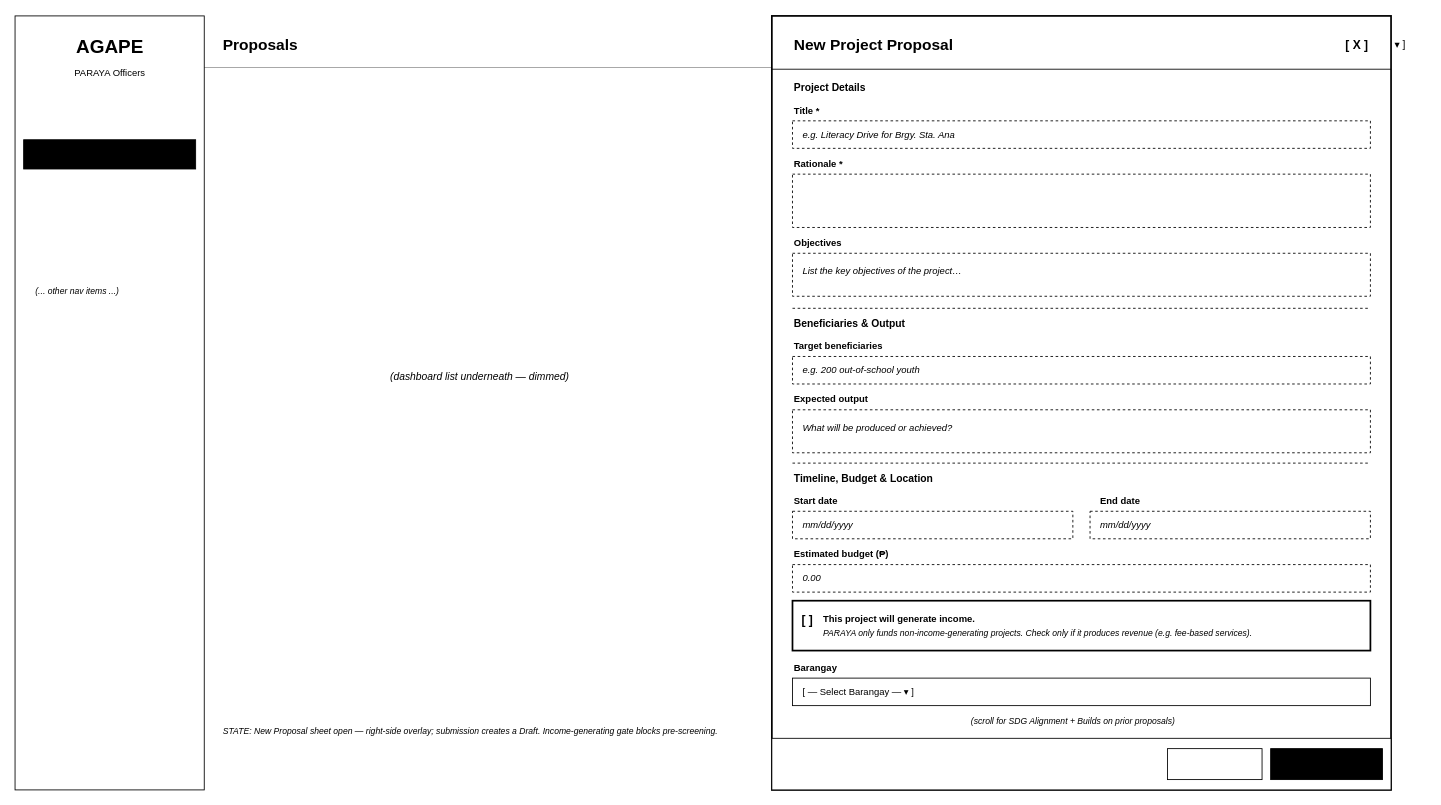
The diagram is 1441 pixels wide and 805 high, and some of its shapes have lost their labels. Each missing label, with the centre of its shape:
"[ CANCEL ]" belongs at pixel 1214 764.
"[ CREATE PROPOSAL ]" belongs at pixel 1326 764.
"[x] Proposals" belongs at pixel 109 154.
"Why is this project needed? What problem does it address?" belongs at pixel 1081 200.
